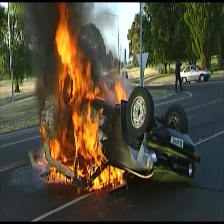fire_h: (50, 1, 107, 176), (84, 165, 126, 191), (47, 167, 73, 185)
fire_l: (115, 79, 127, 102), (40, 121, 47, 143), (38, 152, 49, 165), (105, 82, 112, 99)
